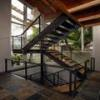stairs: (12, 12, 83, 54)
